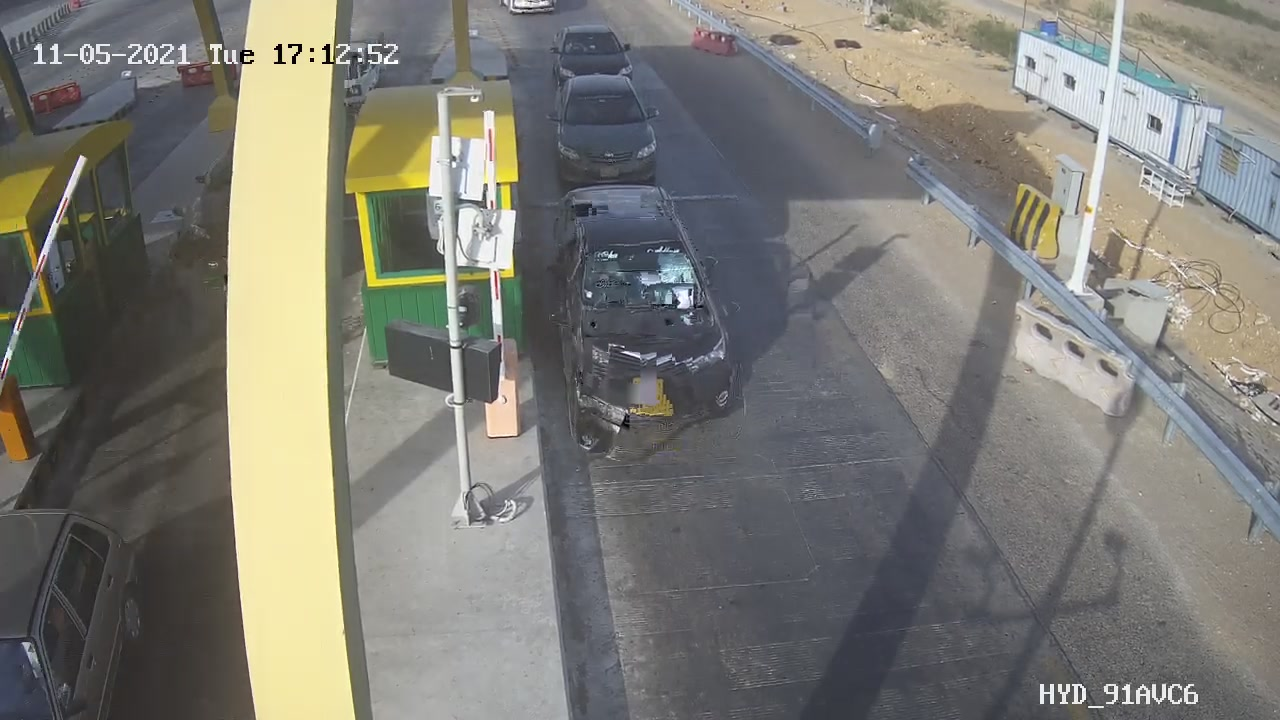F1: (533, 64, 682, 200)
